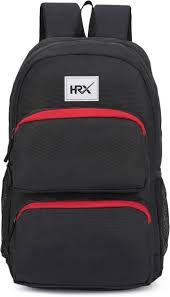backpack: (0, 0, 169, 290)
